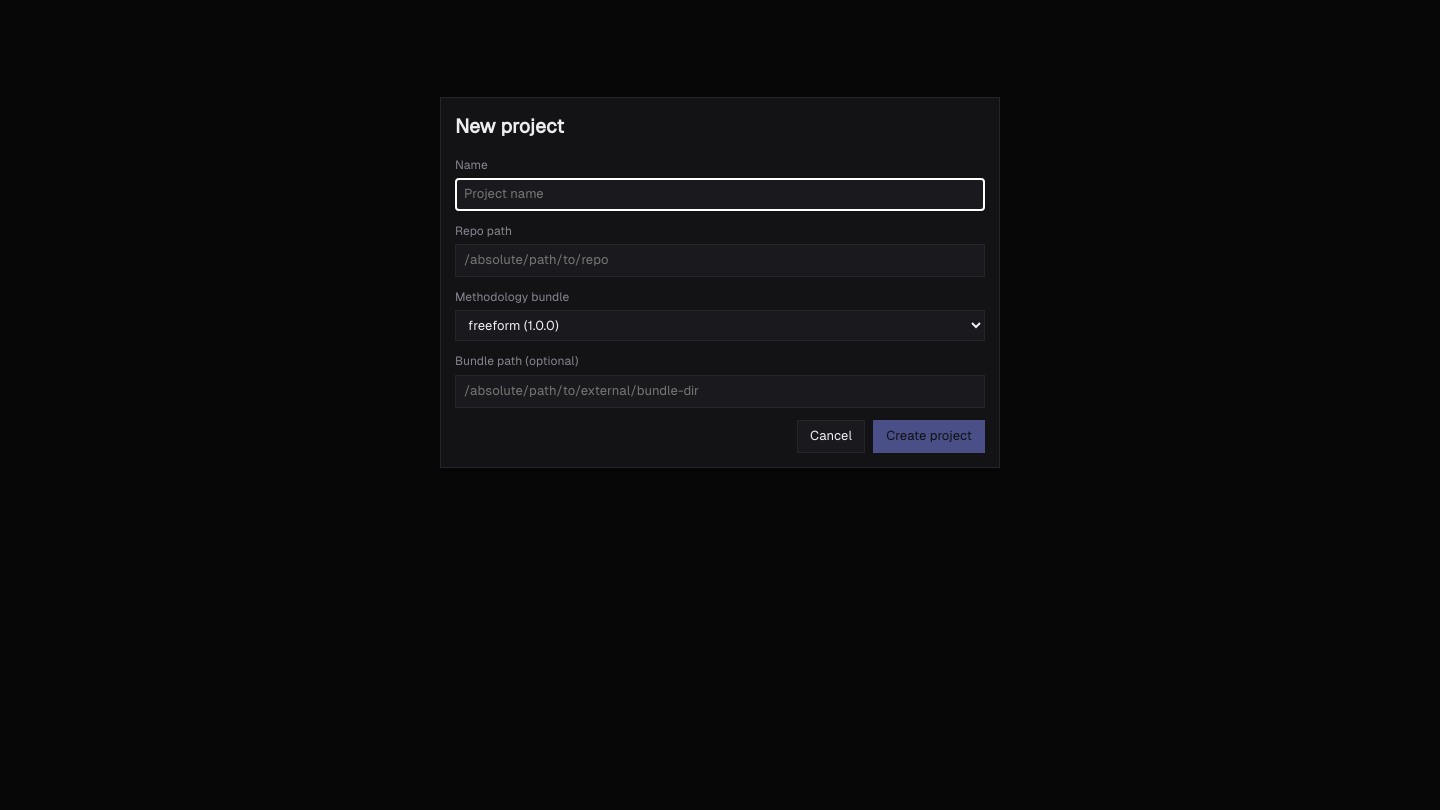
Scenario: NewProjectModal › renders an inline error and keeps the modal open when the API rejects
Type "Alpha" into the field with test id "new-project-name" at [720, 194], box [455,178,985,211]
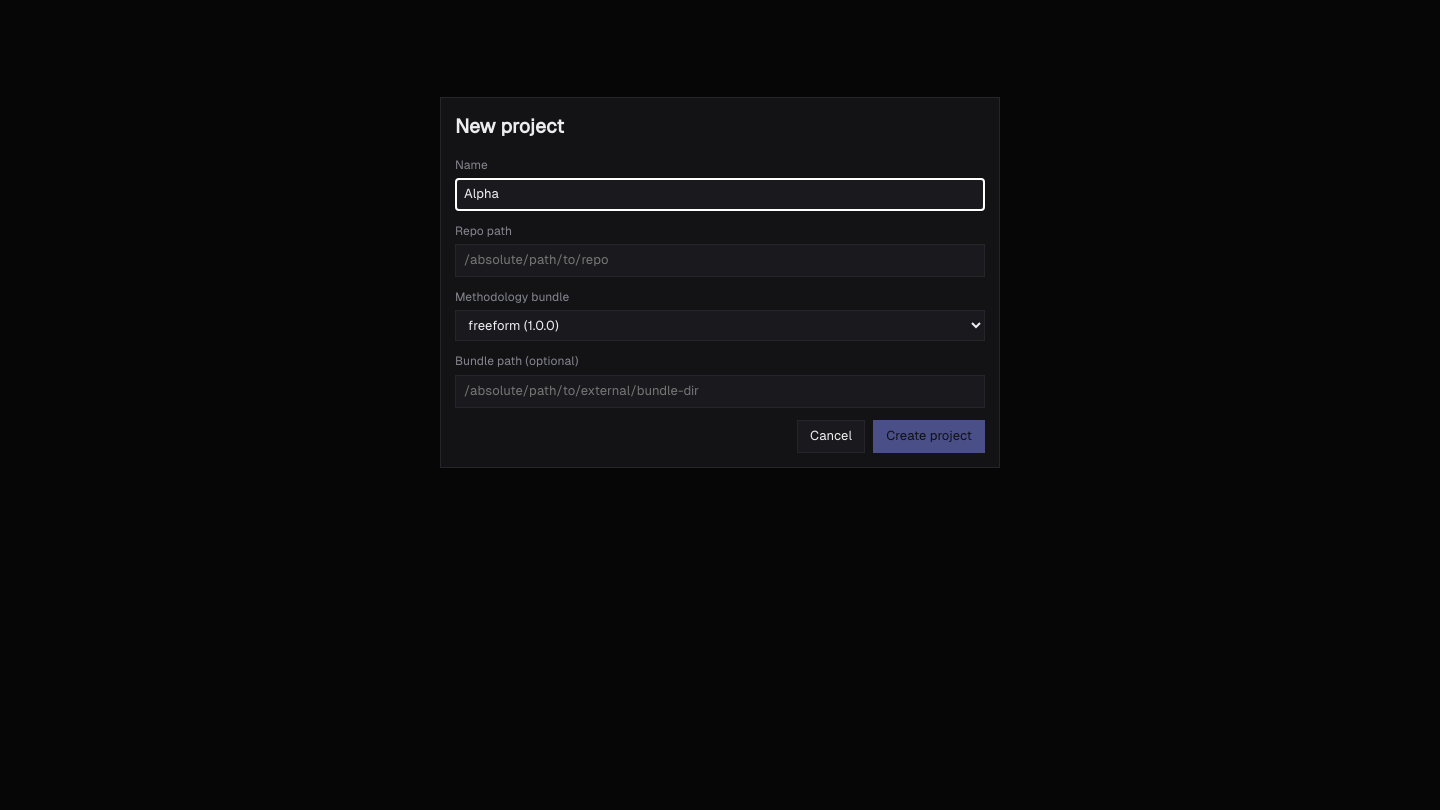
Type "/tmp/alpha" into the field with test id "new-project-repo" at [720, 261], box [455,244,985,277]
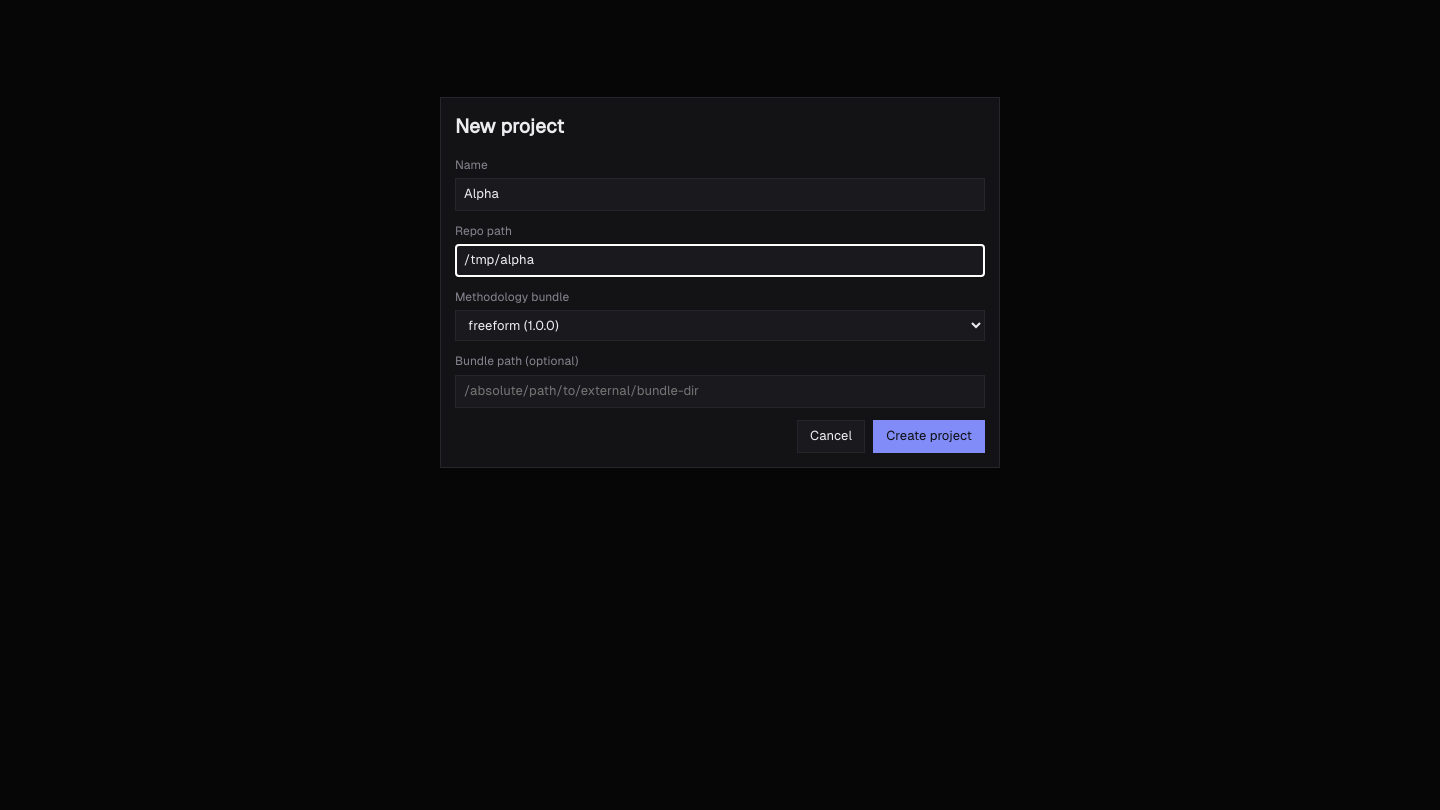
Click the button with test id "new-project-submit" at [929, 436], box [873,420,985,452]
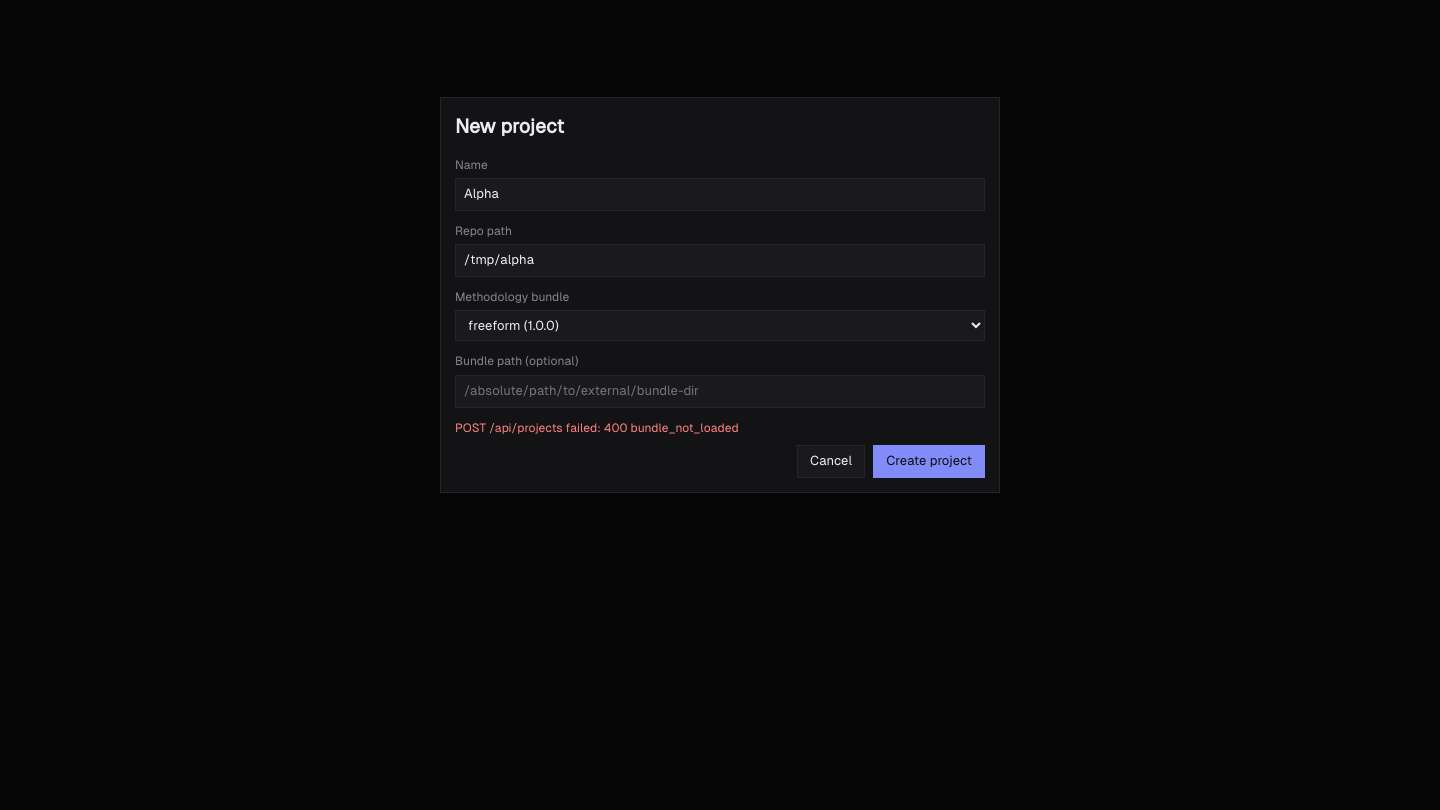
Expected: the message with test id "new-project-error" shows "bundle_not_loaded", [455,421,739,435]
